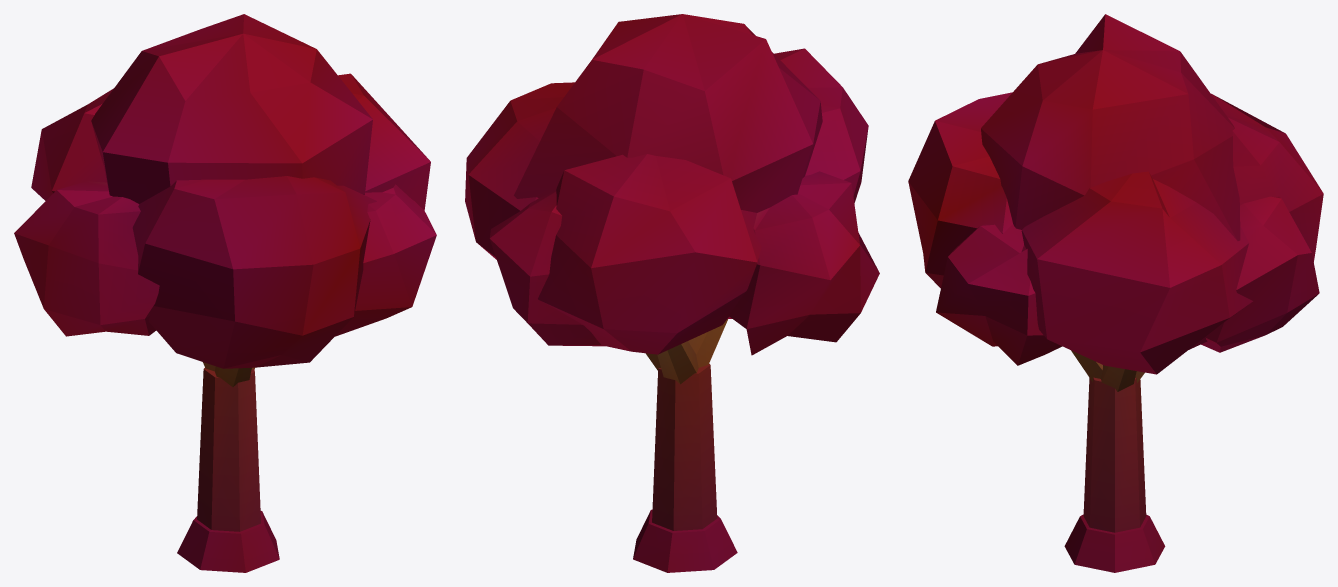
The model's file is Tree_Oak_01.glb.
3 renders of one model, left to right at view 1: azimuth 30°, elevation 25°; view 2: azimuth 150°, elevation 25°; view 3: azimuth 270°, elevation 25°, orthographic. The views are drawn at different scales.
Visible parts, largest first — view 1: Tree_Oak_01; view 2: Tree_Oak_01; view 3: Tree_Oak_01.
Boxes of the visible parts, left/top/right/bottom form: Tree_Oak_01: left=14, top=14, right=436, bottom=572; Tree_Oak_01: left=465, top=14, right=879, bottom=572; Tree_Oak_01: left=908, top=14, right=1323, bottom=572.
Bounding box in the file's own units: 4.29 × 5.65 × 4.18.
